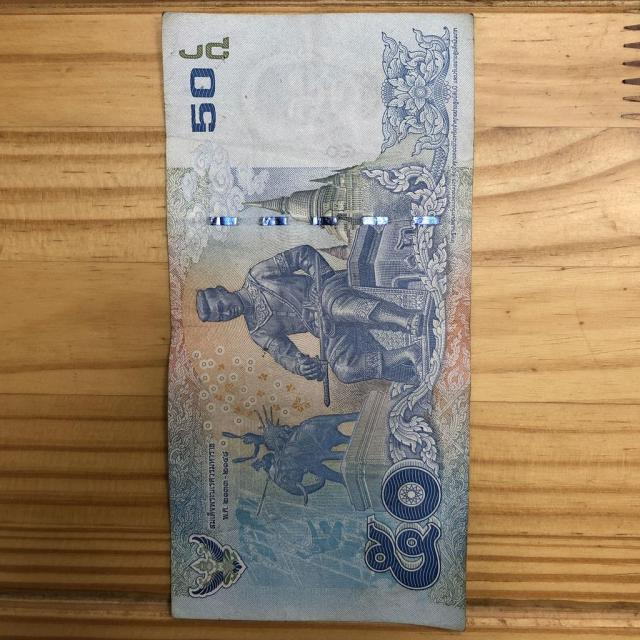THAI50: (162, 13, 474, 628)
